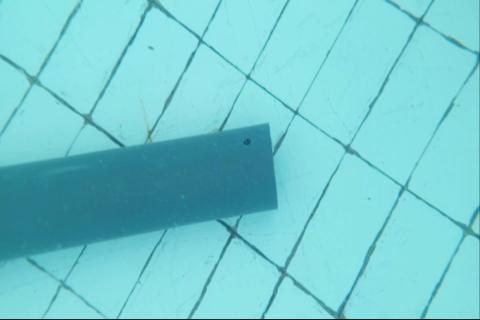kebocoran: (243, 138, 251, 145)
